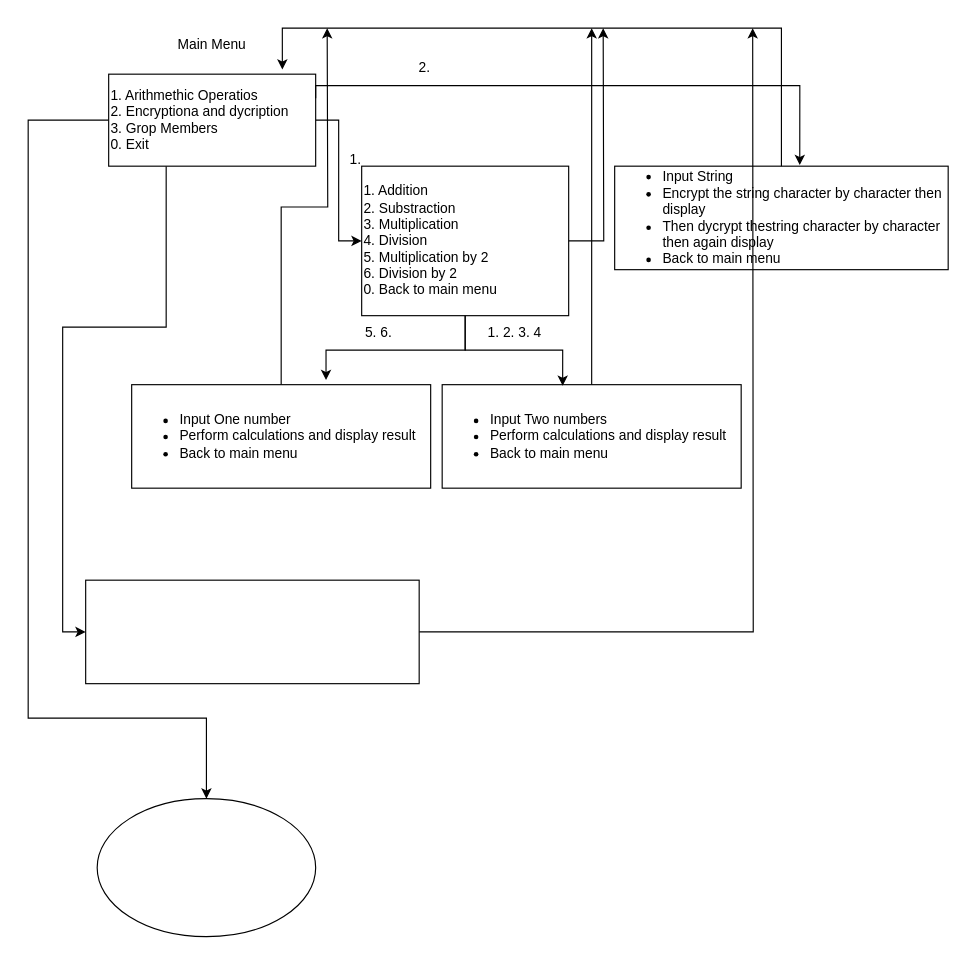
Some shapes in this 968 by 957 pixel diagram are drawn without their labels. Here are the shapes that lost their labels. From the top down, the centre of each, then its label:
(x=252, y=631): Diisplay Group Mebers name Back to main meu
(x=206, y=867): Exit the program by displaying the thanku message
